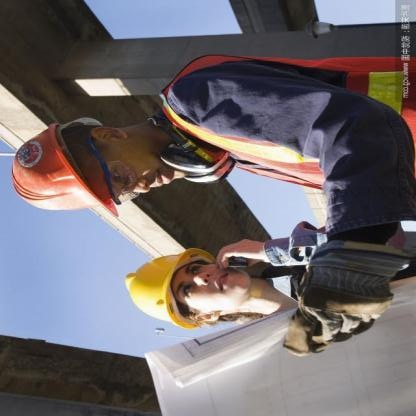red: (8, 116, 122, 227)
vest: (159, 39, 415, 200)
yellow: (117, 228, 204, 335)
